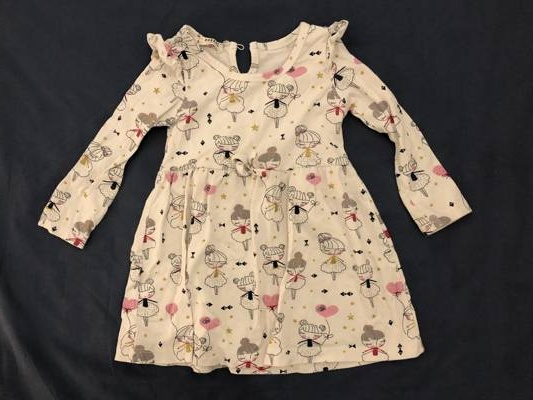Dress: (23, 8, 458, 386)
